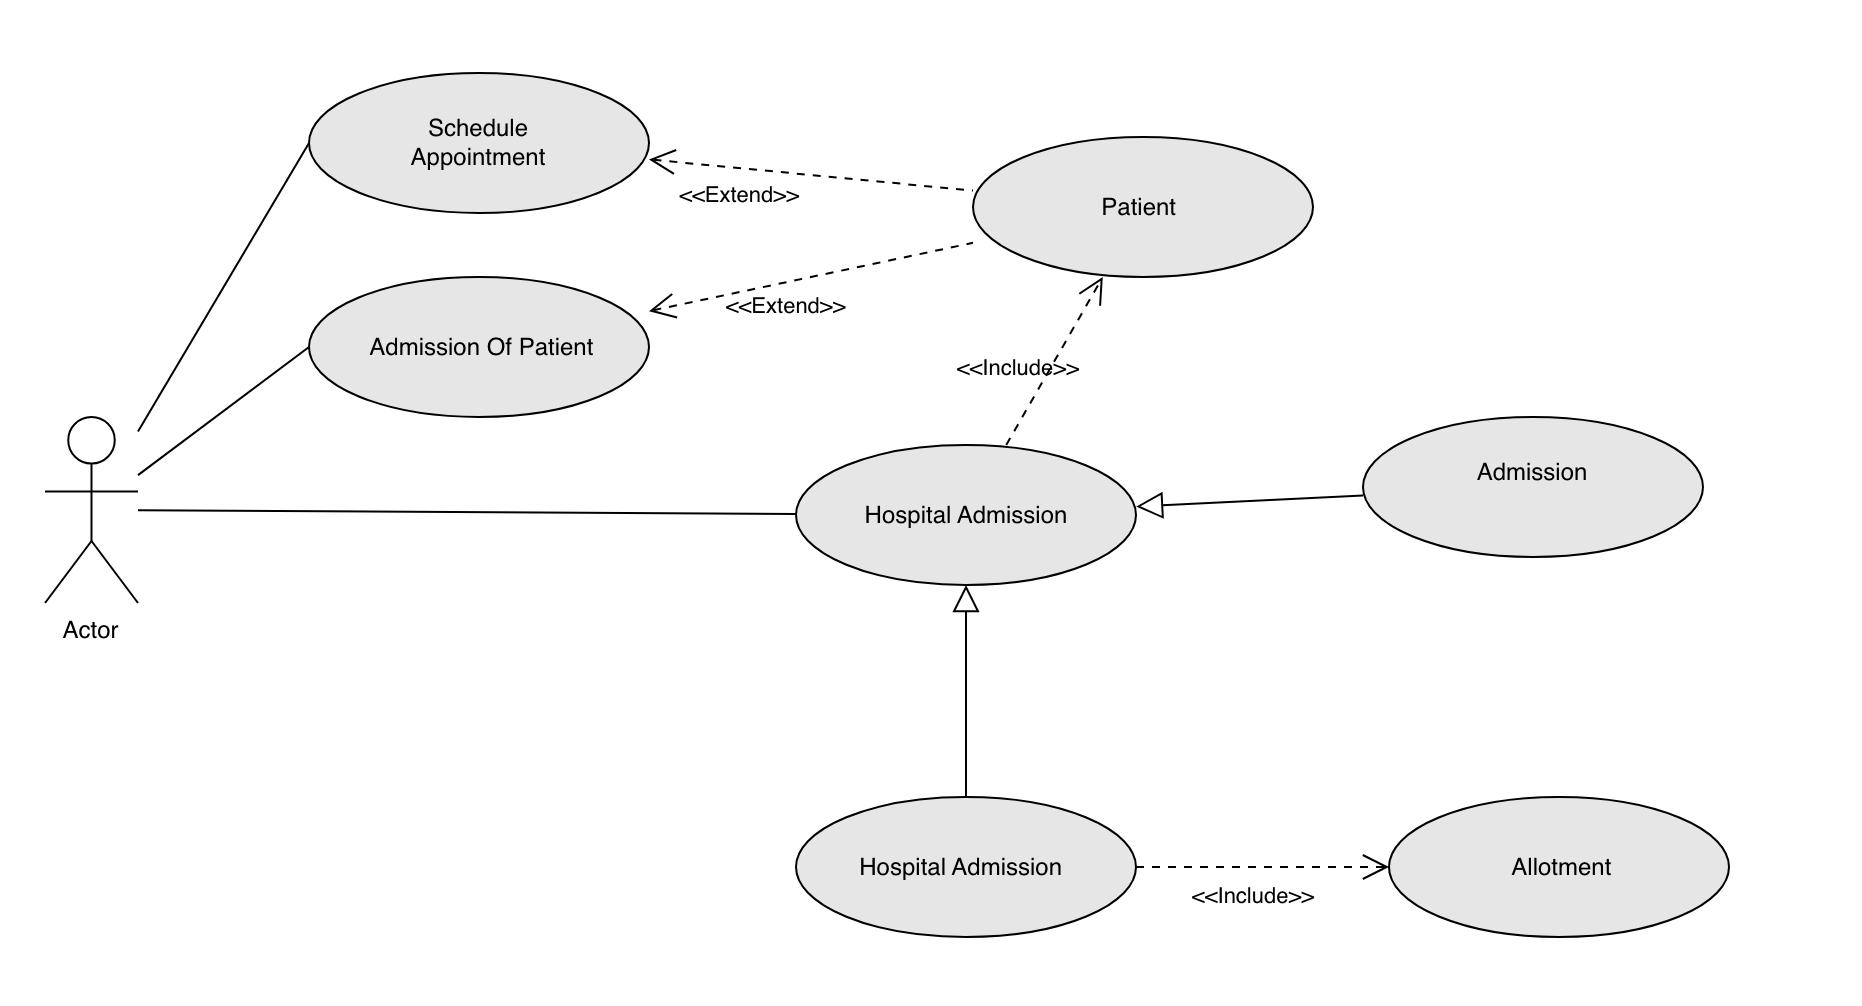actor: (40, 410, 154, 612)
association: (136, 135, 310, 432), (645, 235, 975, 323), (141, 492, 794, 529), (134, 344, 310, 482), (1003, 275, 1108, 444), (650, 146, 973, 199), (1139, 842, 1386, 885), (1139, 484, 1365, 520), (949, 587, 984, 792)
text: (396, 108, 574, 187), (856, 494, 1086, 536), (368, 330, 603, 370), (856, 847, 1069, 887), (1490, 842, 1639, 886), (670, 177, 811, 218), (722, 284, 854, 326), (1082, 182, 1191, 230), (1188, 878, 1326, 916), (1467, 453, 1592, 487), (955, 353, 1086, 382), (52, 615, 139, 645)
use_case: (963, 133, 1314, 284), (790, 442, 1142, 592), (304, 274, 652, 422), (304, 69, 650, 217), (794, 794, 1139, 942), (1363, 413, 1707, 560), (1388, 795, 1731, 937)
